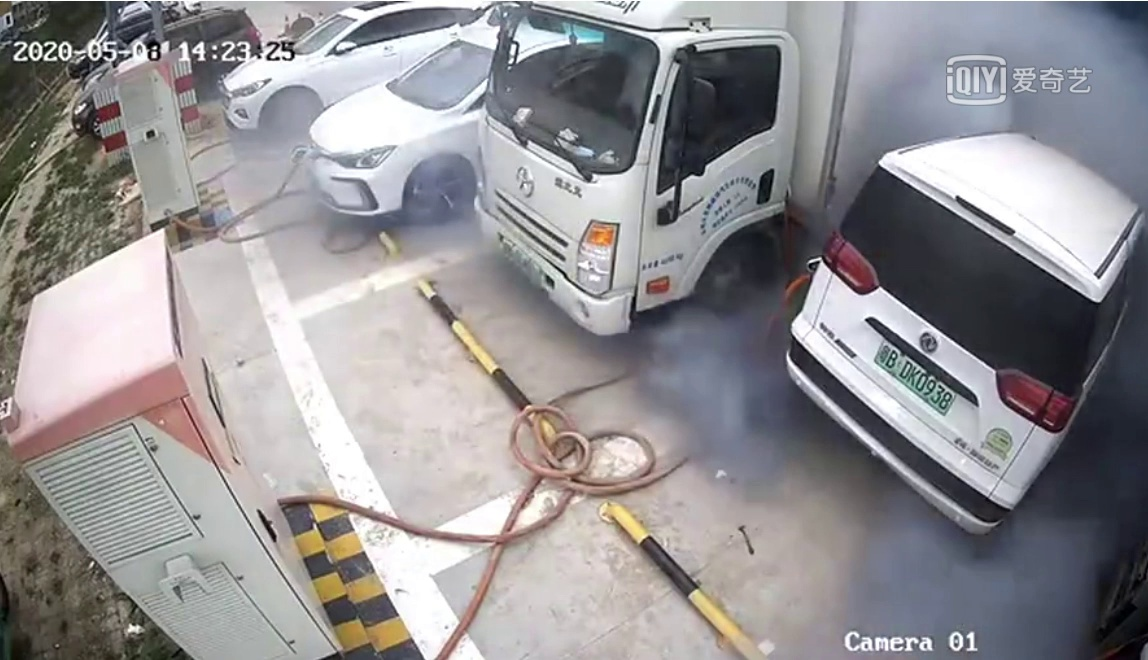smoke: (868, 494, 1110, 658), (636, 303, 800, 468)
